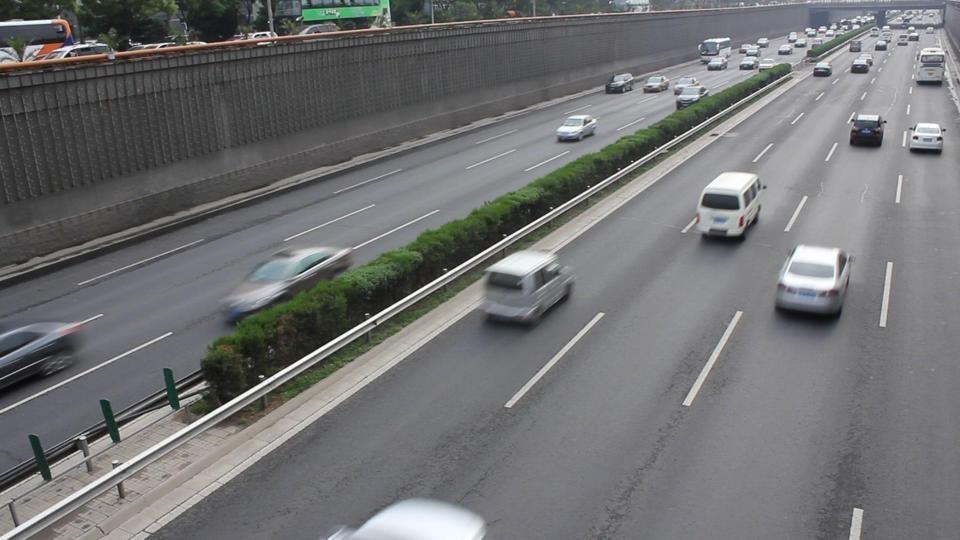car: (220, 245, 355, 327), (482, 246, 576, 328), (321, 497, 490, 538), (0, 321, 88, 389), (774, 244, 853, 317), (695, 170, 767, 238), (33, 42, 116, 64), (848, 112, 886, 147), (907, 122, 945, 154), (556, 114, 598, 142), (605, 72, 636, 94), (642, 74, 671, 94), (849, 57, 872, 74), (0, 48, 19, 64), (812, 63, 832, 77)
